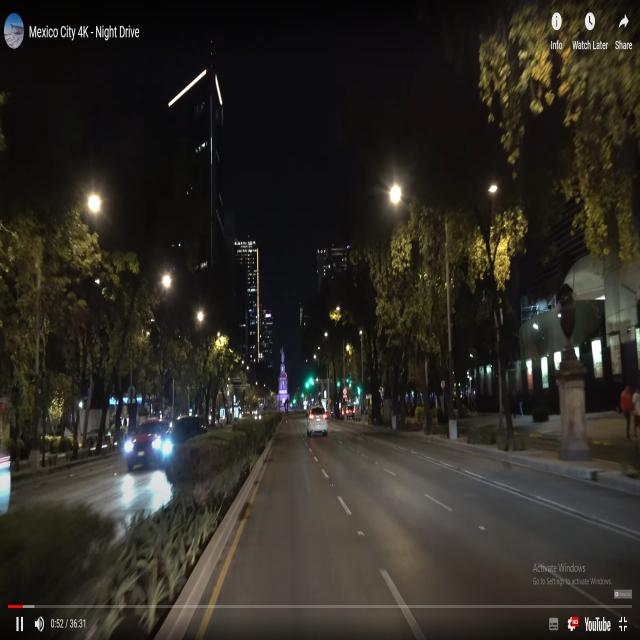headlights: (115, 427, 162, 460)
